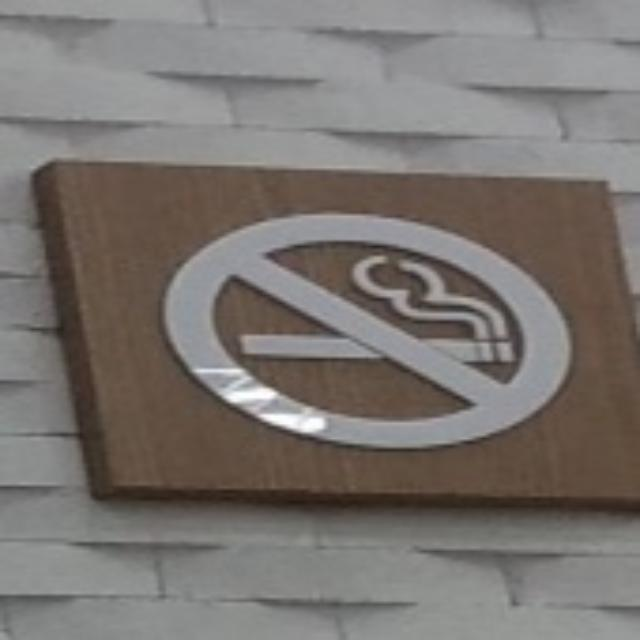cam hut thuoc: (166, 211, 568, 448)
